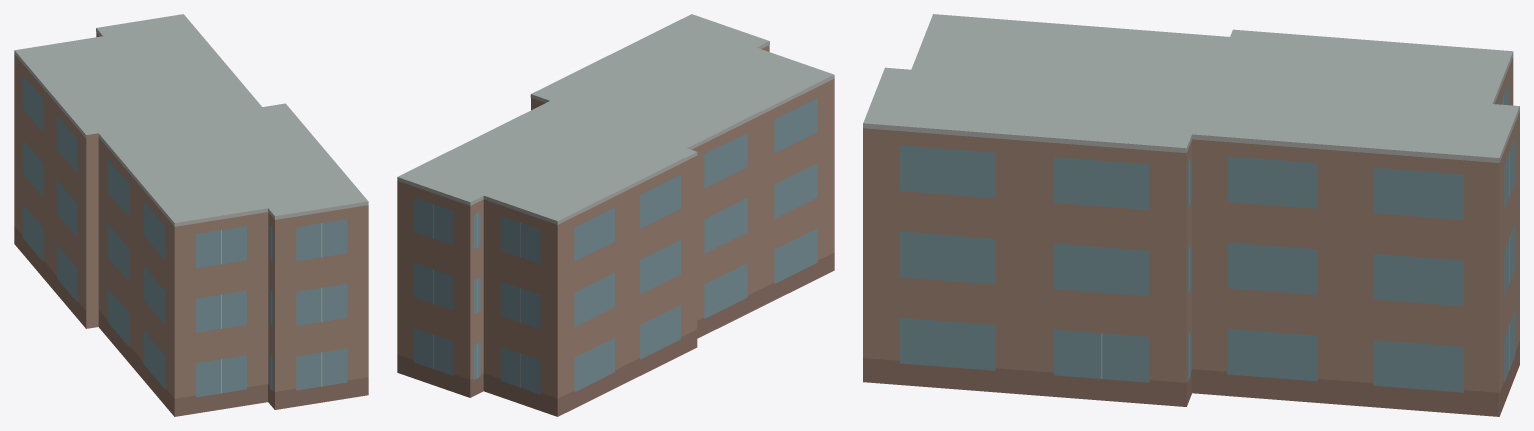
The model's file is survey-upis-32953807.glb.
The picture shows the model from 3 angles, left to right: view 1: azimuth 30°, elevation 25°; view 2: azimuth 150°, elevation 25°; view 3: azimuth 270°, elevation 25°; orthographic projection. The views are drawn at different scales.
Parts seen in each view (by area): view 1: survey-upis-32953807.tmp; view 2: survey-upis-32953807.tmp; view 3: survey-upis-32953807.tmp.
Boxes of the visible parts, x1,y1,x2,y2 form: survey-upis-32953807.tmp: (14,14,368,416); survey-upis-32953807.tmp: (397,14,834,416); survey-upis-32953807.tmp: (863,14,1519,416).
Bounding box in the file's own units: 15.3 × 12.8 × 29.45.
